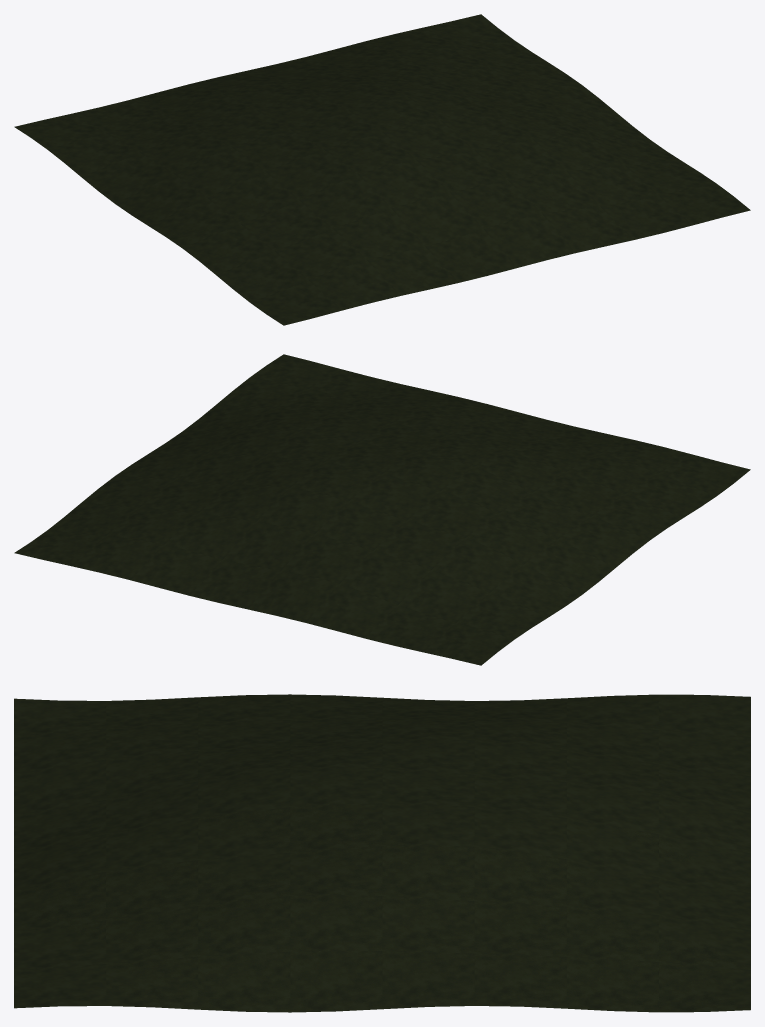
The model's file is ground-mound-40m.glb.
The picture shows the model from 3 angles, top to bottom: view 1: azimuth 30°, elevation 25°; view 2: azimuth 150°, elevation 25°; view 3: azimuth 270°, elevation 25°; orthographic projection. The views are drawn at different scales.
Visible parts, largest first — view 1: Low hill; view 2: Low hill; view 3: Low hill.
Part boxes in pixels (x1,y1,x2,y2): Low hill: (14, 14, 750, 325); Low hill: (14, 354, 750, 665); Low hill: (14, 694, 750, 1012).
Bounding box in the file's own units: 40 × 3.2 × 40.
Materials: 1 (1 with a texture image).
